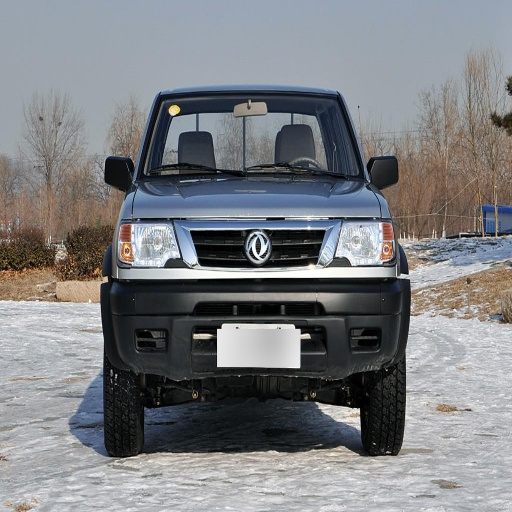front_bumper: (104, 218, 408, 381)
front_right_light: (116, 221, 181, 267)
hood: (132, 176, 381, 217)
